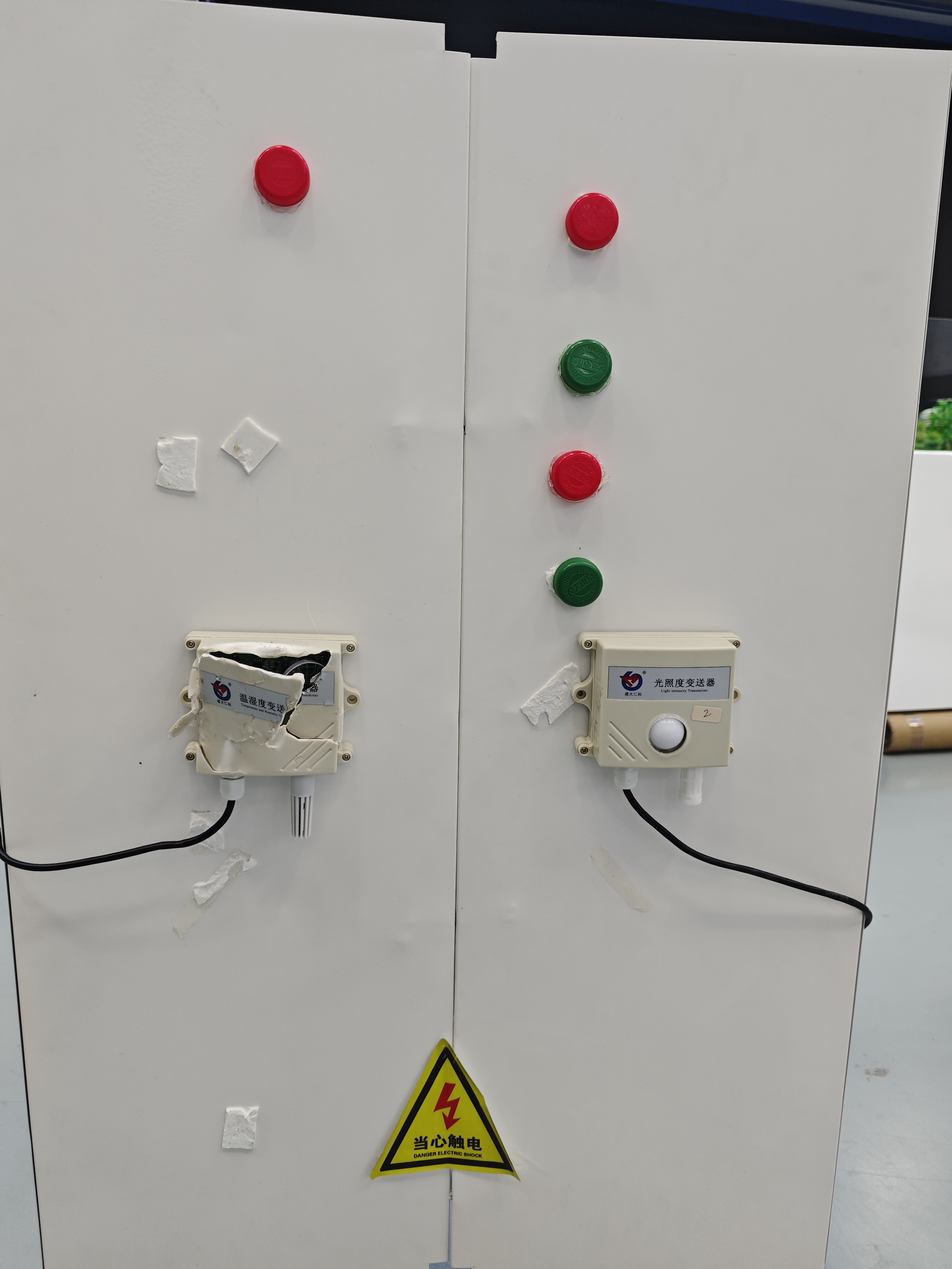red_warning: (224, 113, 326, 228), (533, 426, 627, 536), (550, 187, 638, 299)
sensor_damage: (154, 591, 376, 851)
